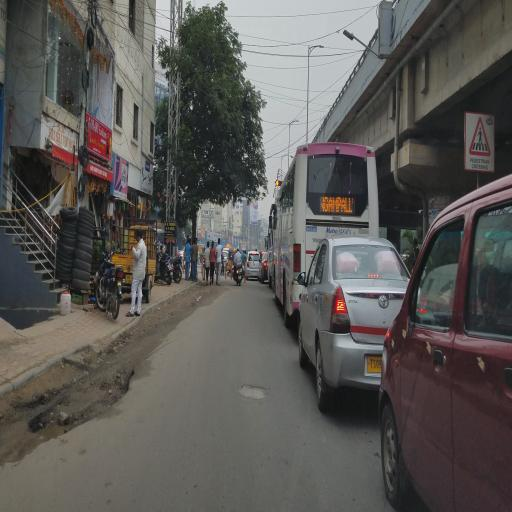street_light_0: (342, 19, 380, 55), (285, 112, 303, 130), (308, 35, 324, 53)
